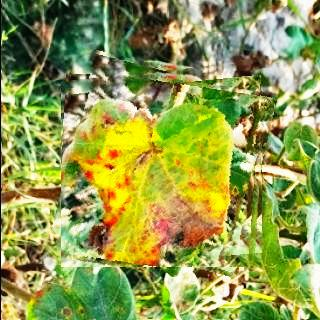blight: (60, 60, 267, 267)
